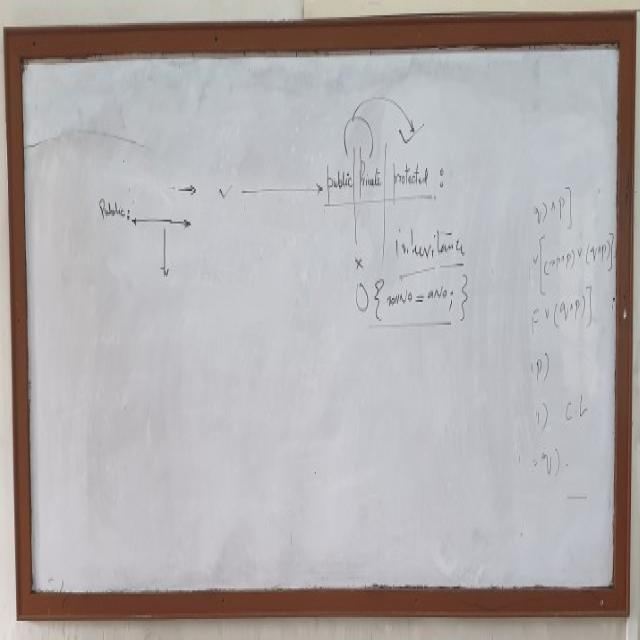White-board: (13, 30, 627, 609)
